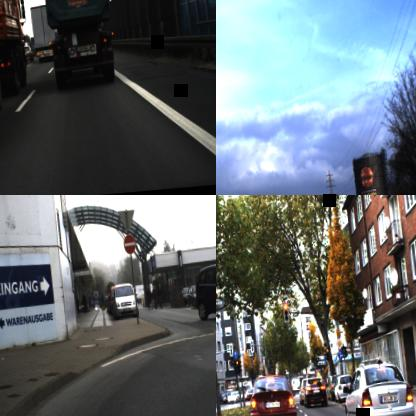NO ENTRY: (123, 234, 137, 254)
go right: (338, 350, 344, 360)
go straight: (233, 350, 238, 360)
priority road: (336, 337, 344, 350)
